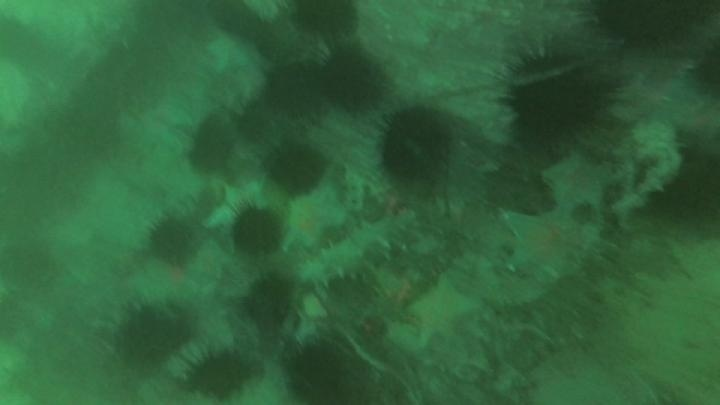echinus: (501, 45, 606, 145), (32, 98, 119, 171), (377, 107, 455, 184), (589, 1, 707, 50), (114, 300, 194, 368), (655, 151, 720, 233), (316, 45, 387, 112), (283, 340, 353, 404), (182, 347, 255, 402), (263, 60, 327, 119), (264, 141, 328, 195), (186, 114, 237, 175), (241, 274, 295, 328), (289, 1, 361, 40), (2, 236, 55, 287), (230, 206, 284, 256), (145, 214, 197, 265), (1, 12, 43, 68), (234, 98, 278, 145), (688, 39, 720, 101)
holothurian: (297, 208, 420, 292)
scallop: (1, 57, 36, 133)
starfish: (499, 203, 587, 280), (404, 274, 481, 351), (540, 149, 618, 215), (117, 91, 194, 155), (279, 184, 348, 254), (202, 176, 269, 232), (203, 31, 256, 76), (678, 100, 720, 146)
